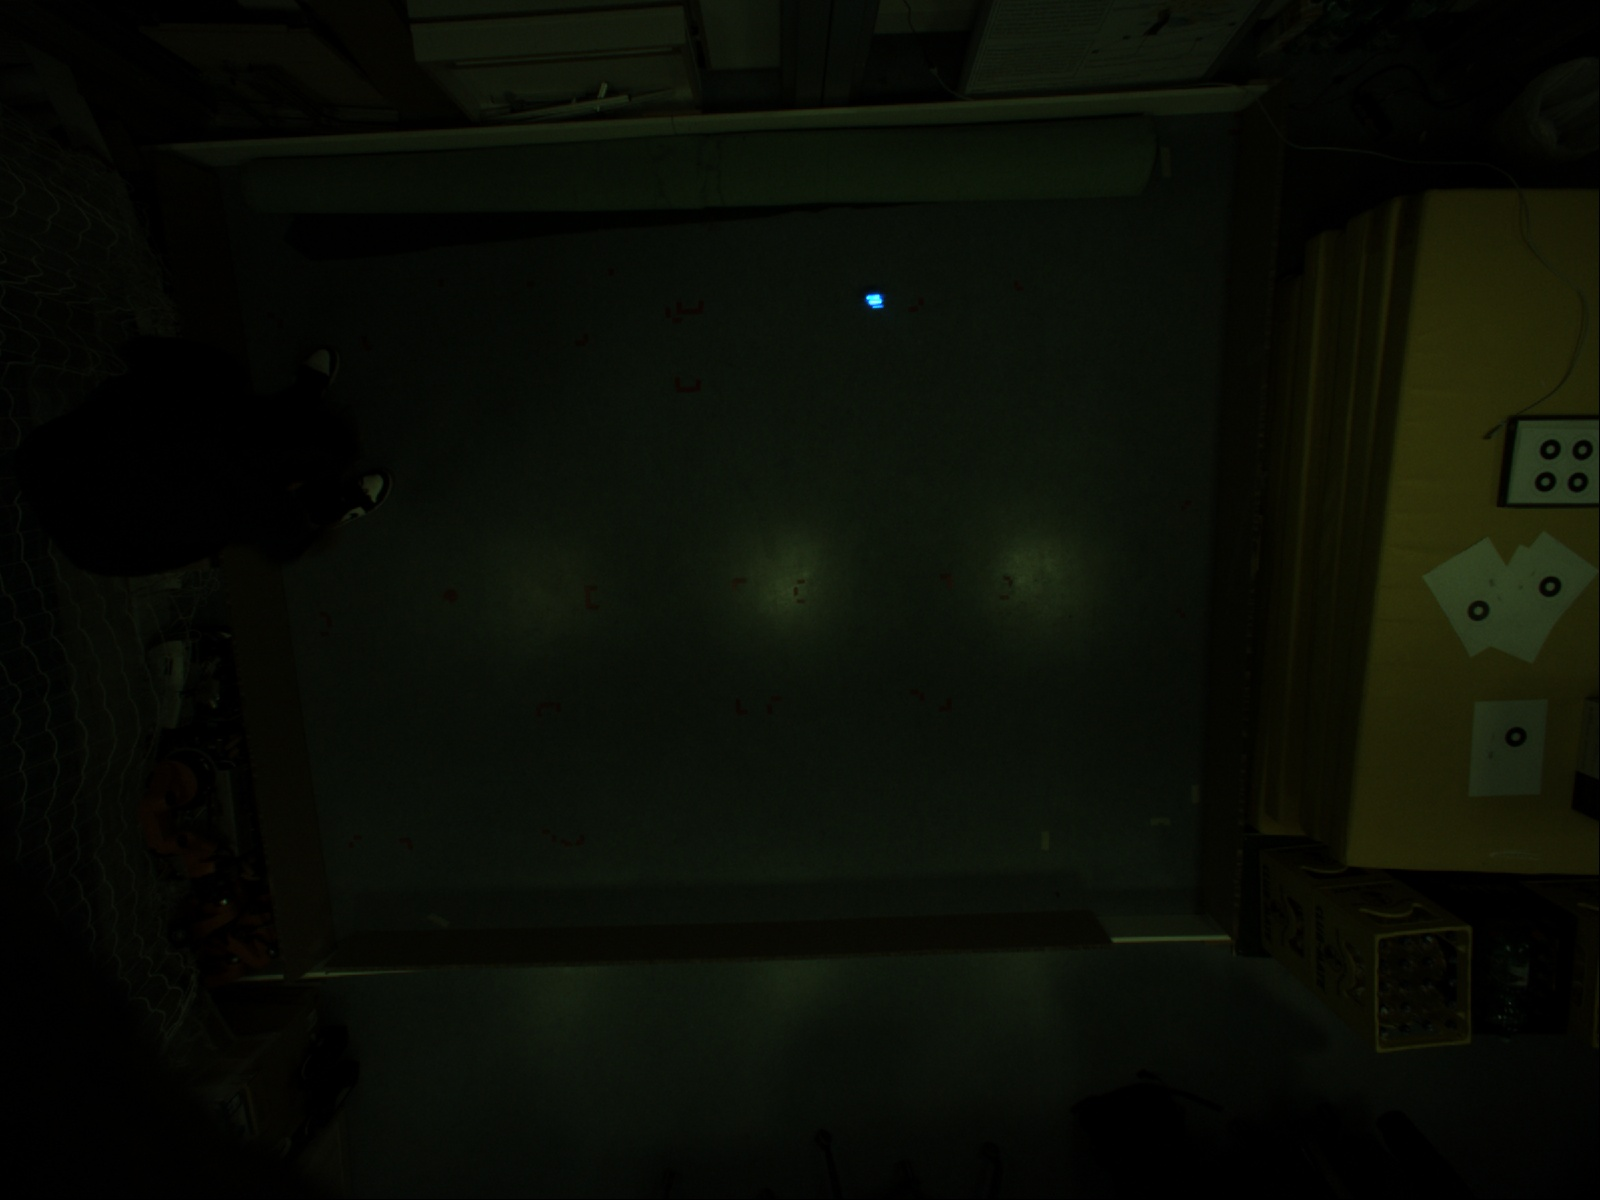sphero: (860, 287, 889, 315)
